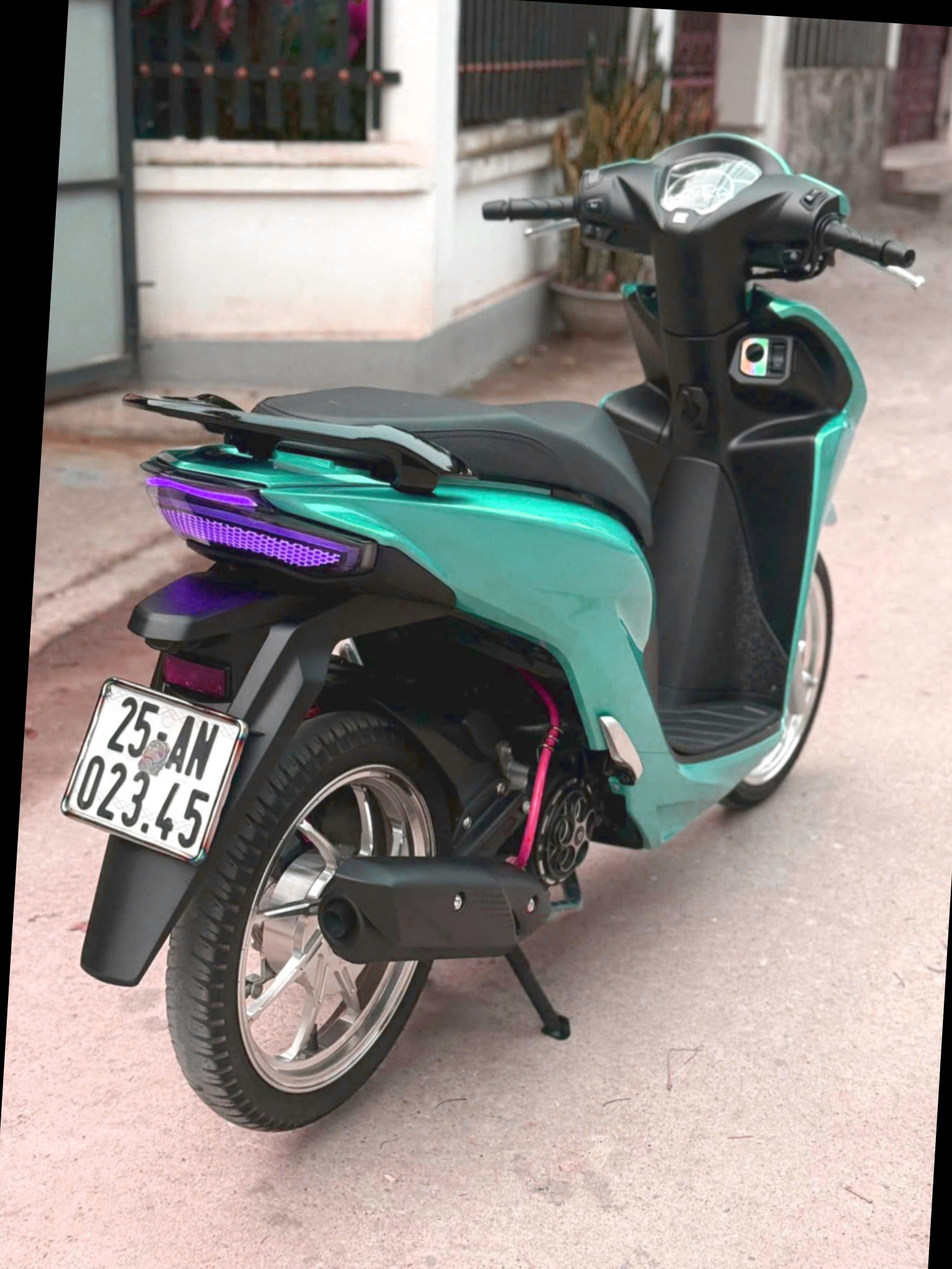Bien-so: (54, 676, 251, 867)
